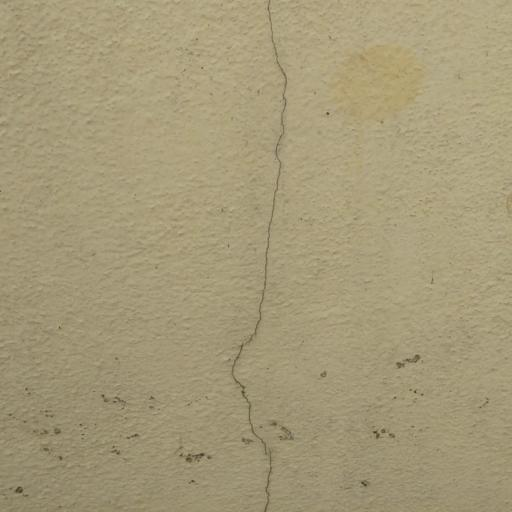minor_crack: (224, 0, 292, 512)
